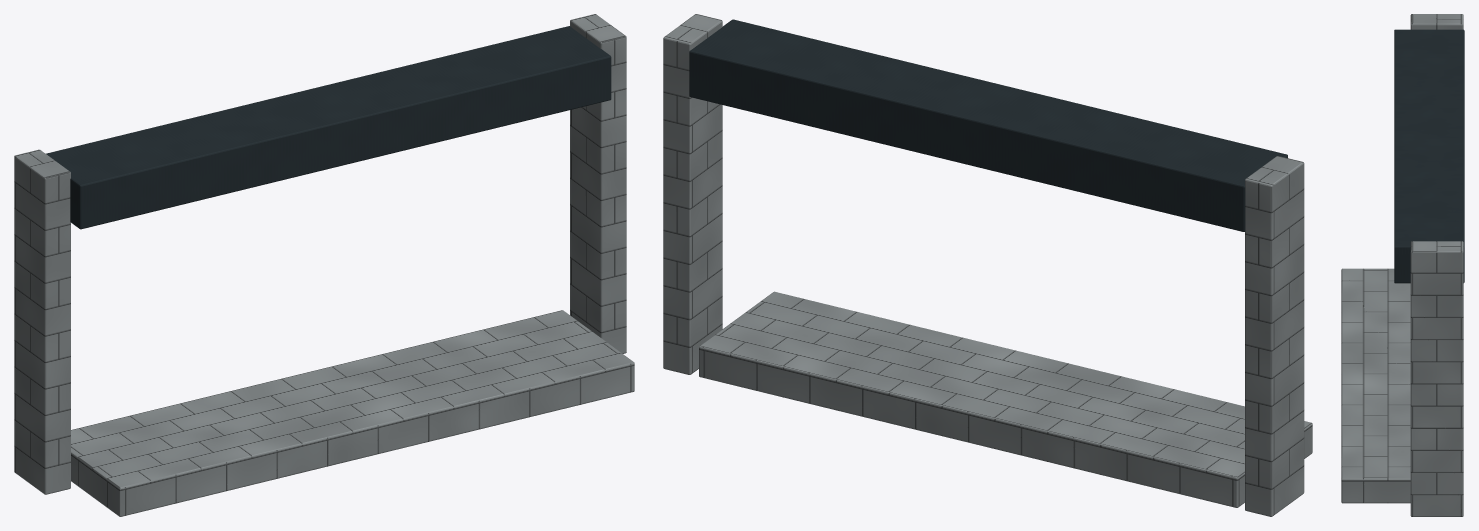
Rendered from facade.glb.
3 views of the same model, side by side, from view 1: azimuth 30°, elevation 25°; view 2: azimuth 150°, elevation 25°; view 3: azimuth 270°, elevation 25° (orthographic). The views are drawn at different scales.
Visible parts, largest first — view 1: facade | Overhaul | Arcade plinth, facade | Overhaul | Arcade reveal header, facade | Overhaul | Arcade pier -2.75, facade | Overhaul | Arcade pier 2.75; view 2: facade | Overhaul | Arcade plinth, facade | Overhaul | Arcade reveal header, facade | Overhaul | Arcade pier -2.75, facade | Overhaul | Arcade pier 2.75; view 3: facade | Overhaul | Arcade plinth, facade | Overhaul | Arcade reveal header, facade | Overhaul | Arcade pier 2.75, facade | Overhaul | Arcade pier -2.75.
Boxes of the visible parts, <box> form: facade | Overhaul | Arcade plinth: <box>71,310,634,516</box>; facade | Overhaul | Arcade reveal header: <box>46,26,611,229</box>; facade | Overhaul | Arcade pier -2.75: <box>14,149,70,494</box>; facade | Overhaul | Arcade pier 2.75: <box>570,14,626,353</box>; facade | Overhaul | Arcade plinth: <box>699,291,1312,507</box>; facade | Overhaul | Arcade reveal header: <box>689,19,1287,231</box>; facade | Overhaul | Arcade pier -2.75: <box>1245,156,1304,516</box>; facade | Overhaul | Arcade pier 2.75: <box>663,14,722,374</box>; facade | Overhaul | Arcade plinth: <box>1341,268,1410,503</box>; facade | Overhaul | Arcade reveal header: <box>1394,29,1464,283</box>; facade | Overhaul | Arcade pier 2.75: <box>1410,241,1463,516</box>; facade | Overhaul | Arcade pier -2.75: <box>1410,14,1463,29</box>.
Size of the model in its own units: 5.76 by 3 by 1.26.
2 materials, 2 textured.
